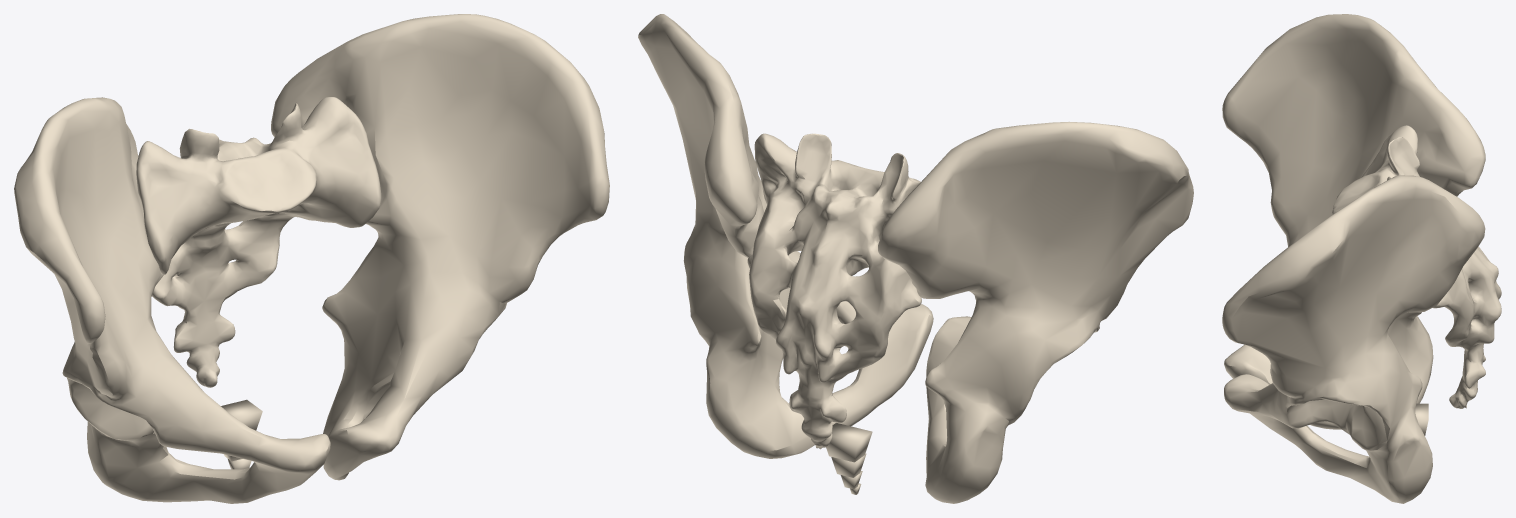
File: skeletal.pelvis.glb
The picture shows the model from 3 angles, left to right: view 1: azimuth 30°, elevation 25°; view 2: azimuth 150°, elevation 25°; view 3: azimuth 270°, elevation 25°; orthographic projection. The views are drawn at different scales.
Visible parts, largest first — view 1: left_hip_bone, right_hip_bone, sacrum; view 2: right_hip_bone, left_hip_bone, sacrum, coccygeal_segment_1; view 3: left_hip_bone, right_hip_bone, sacrum.
Boxes of the visible parts, x1,y1,x2,y2 form: left_hip_bone: (271,14,609,480); right_hip_bone: (14,97,330,503); sacrum: (136,97,381,387); right_hip_bone: (878,121,1193,503); left_hip_bone: (638,14,933,458); sacrum: (747,133,921,449); coccygeal_segment_1: (826,423,871,462); left_hip_bone: (1222,175,1485,503); right_hip_bone: (1222,14,1485,429); sacrum: (1332,125,1501,408).
Size of the model in its own units: 0.2896 by 0.2123 by 0.1464.
